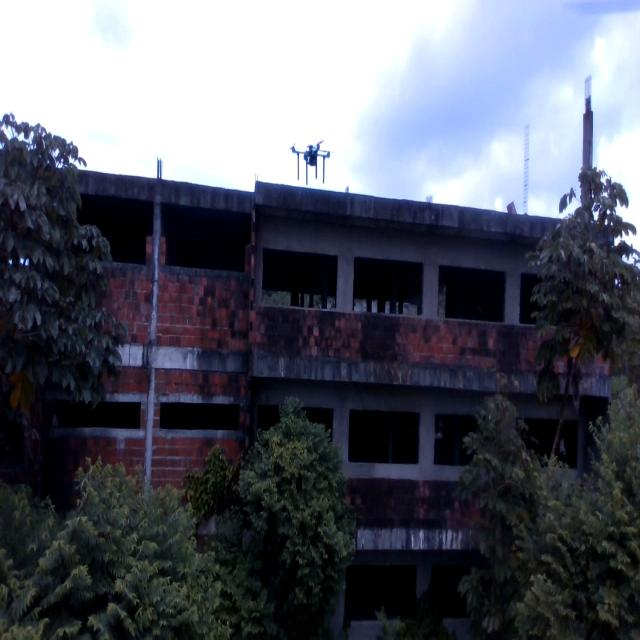-uav-: (288, 129, 334, 188)
